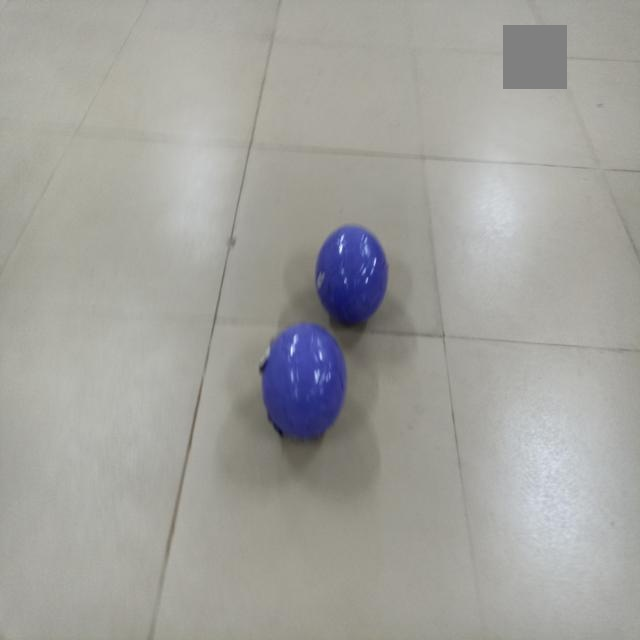purple_ball: (260, 312, 354, 450), (312, 220, 391, 331)
